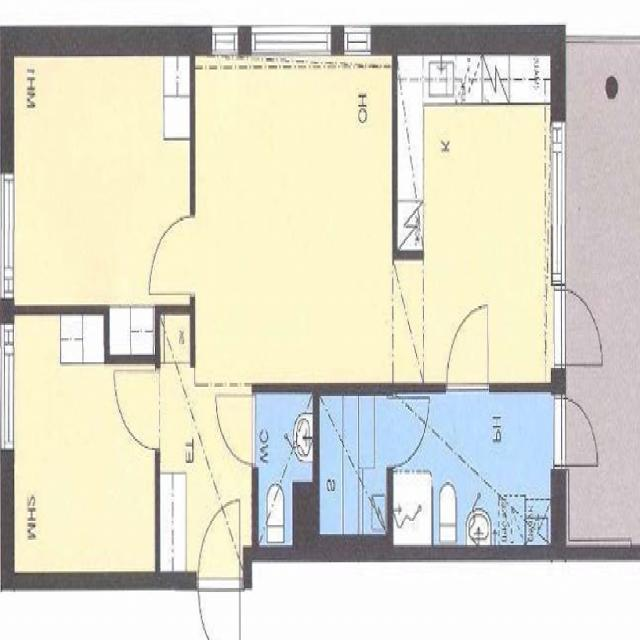door: (552, 290, 606, 366), (199, 494, 240, 590), (114, 371, 160, 449), (150, 218, 196, 294), (448, 306, 488, 393), (551, 398, 602, 466), (216, 395, 259, 464), (386, 399, 429, 467), (199, 572, 240, 640)
